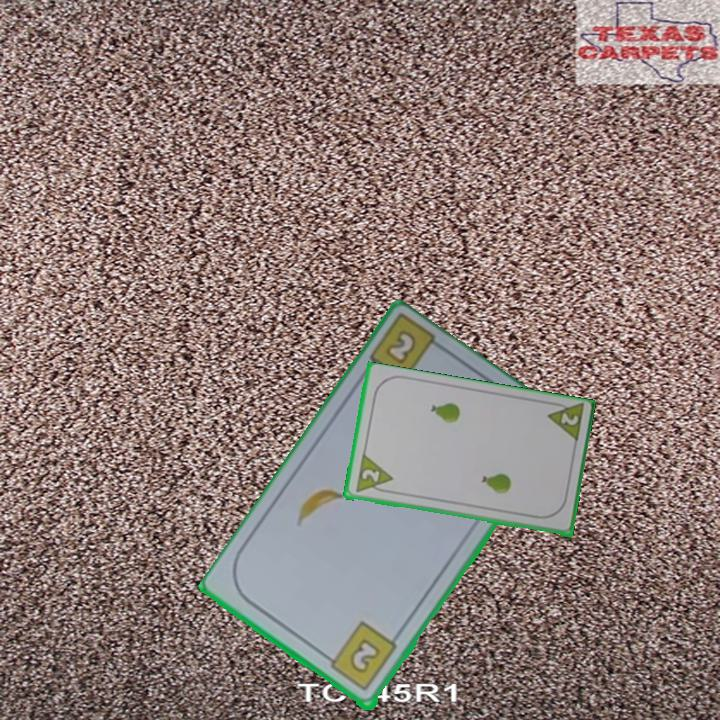2b: (320, 619, 400, 695), (381, 327, 420, 368)
2p: (543, 398, 587, 447), (352, 452, 395, 497)
